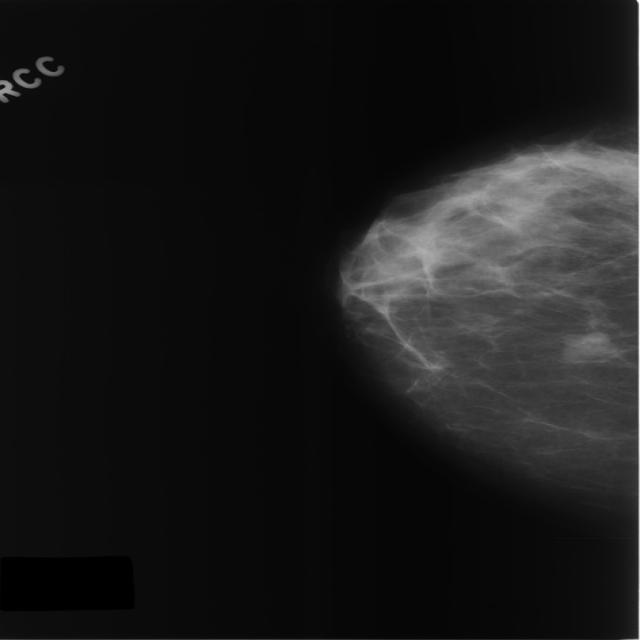tumour: (557, 330, 617, 364)
